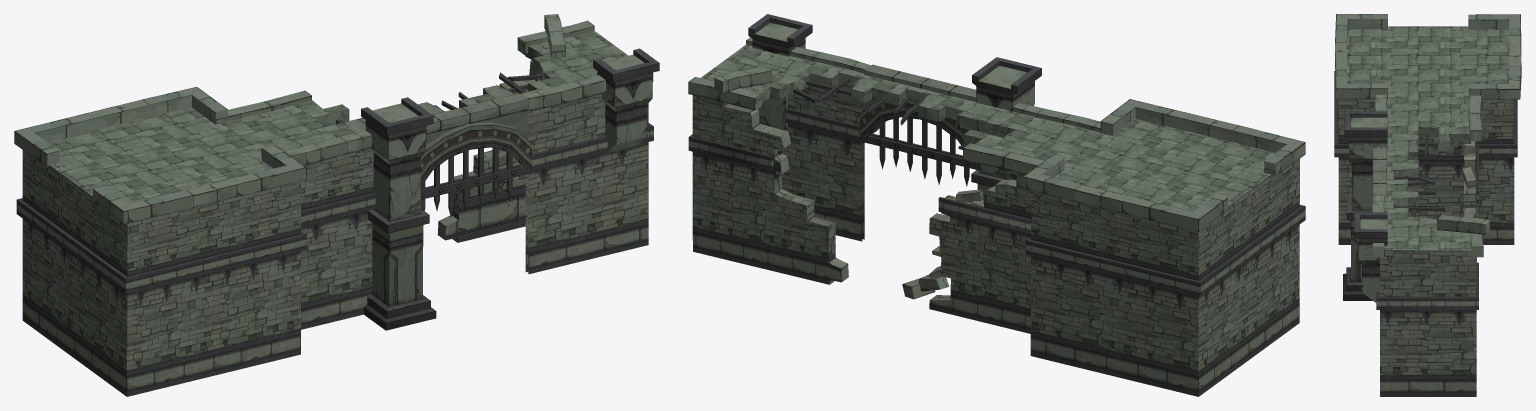
File: 2_WGJ_ChengQiang_01.FBX
3 renders of one model, left to right at view 1: azimuth 30°, elevation 25°; view 2: azimuth 150°, elevation 25°; view 3: azimuth 270°, elevation 25°, orthographic. The views are drawn at different scales.
Parts seen in each view (by area): view 1: 2_WGJ_ChengQiang_04, 2_WGJ_ChengQiang_03, 2_WGJ_ChengQiang_01, 2_WGJ_ChengQiang_02, 2_WGJ_ChengQiang_05; view 2: 2_WGJ_ChengQiang_04, 2_WGJ_ChengQiang_03, 2_WGJ_ChengQiang_02, 2_WGJ_ChengQiang_01, 2_WGJ_ChengQiang_05; view 3: 2_WGJ_ChengQiang_03, 2_WGJ_ChengQiang_04, 2_WGJ_ChengQiang_01, 2_WGJ_ChengQiang_05, 2_WGJ_ChengQiang_02.
Part boxes in pixels (left/top/right/bottom): 2_WGJ_ChengQiang_04: left=14, top=87, right=306, bottom=396; 2_WGJ_ChengQiang_03: left=224, top=14, right=653, bottom=329; 2_WGJ_ChengQiang_01: left=361, top=97, right=436, bottom=330; 2_WGJ_ChengQiang_02: left=421, top=93, right=531, bottom=217; 2_WGJ_ChengQiang_05: left=593, top=48, right=659, bottom=153; 2_WGJ_ChengQiang_04: left=1023, top=99, right=1305, bottom=396; 2_WGJ_ChengQiang_03: left=688, top=37, right=1102, bottom=333; 2_WGJ_ChengQiang_02: left=860, top=64, right=979, bottom=186; 2_WGJ_ChengQiang_01: left=971, top=57, right=1041, bottom=199; 2_WGJ_ChengQiang_05: left=748, top=14, right=812, bottom=130; 2_WGJ_ChengQiang_03: left=1372, top=95, right=1489, bottom=396; 2_WGJ_ChengQiang_04: left=1334, top=14, right=1521, bottom=244; 2_WGJ_ChengQiang_01: left=1343, top=111, right=1387, bottom=300; 2_WGJ_ChengQiang_05: left=1354, top=212, right=1387, bottom=302; 2_WGJ_ChengQiang_02: left=1372, top=147, right=1386, bottom=202.
Size of the model in its own units: 3300 by 1153 by 1148.
